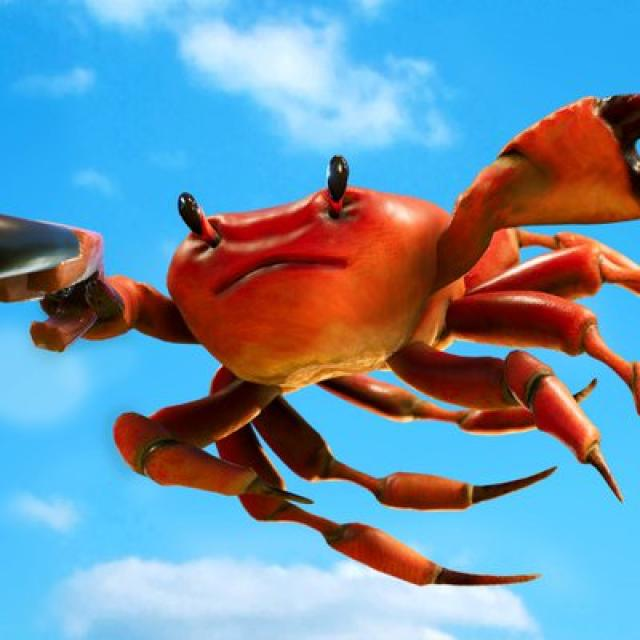crab: (114, 180, 500, 420)
